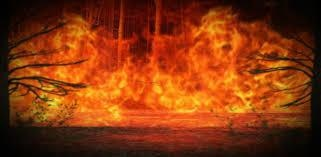fire: (0, 0, 308, 130)
